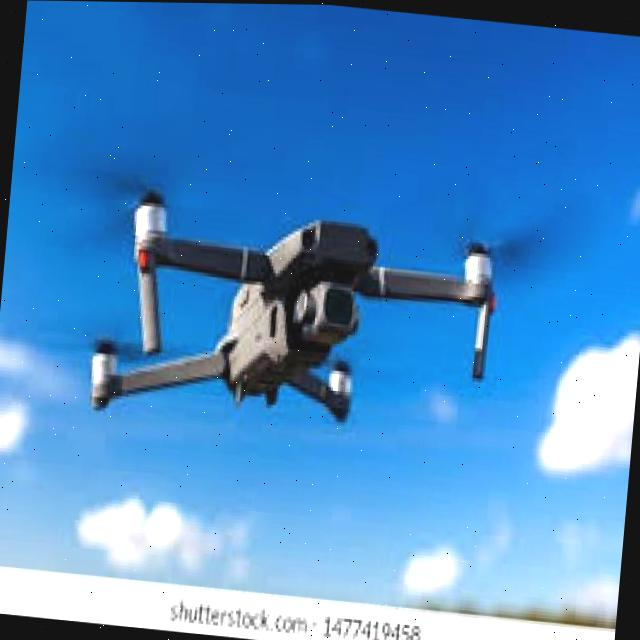drone: (52, 147, 546, 471)
